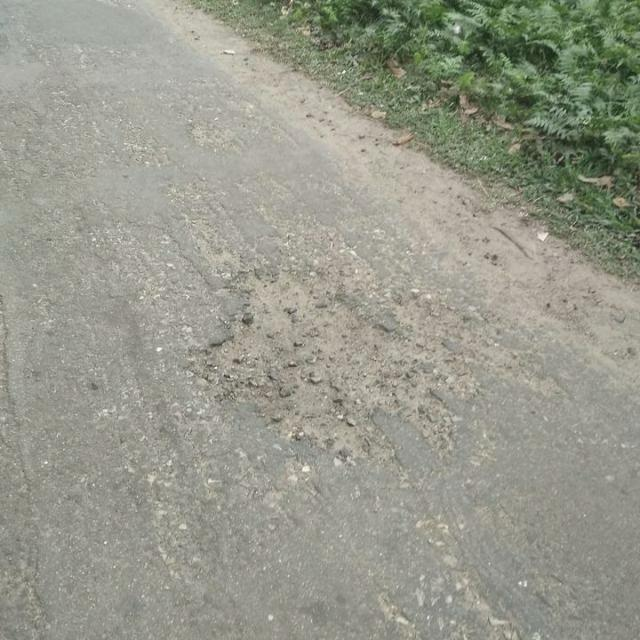Pothole: (198, 262, 423, 449)
